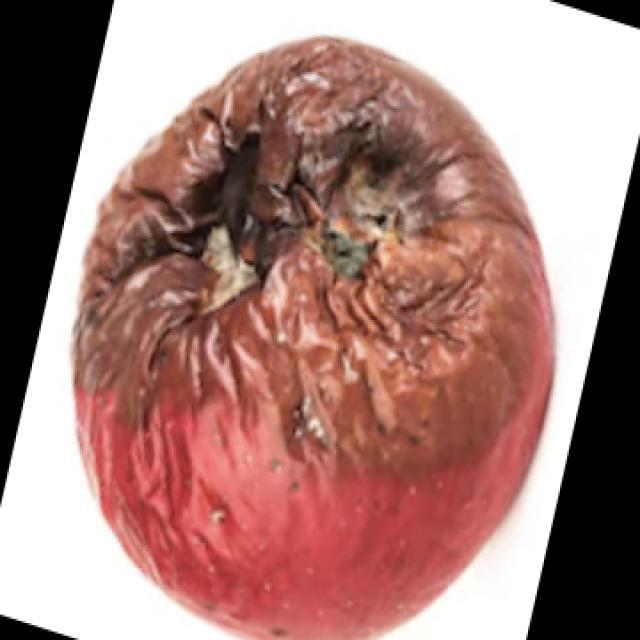Rotten: (98, 50, 535, 627)
